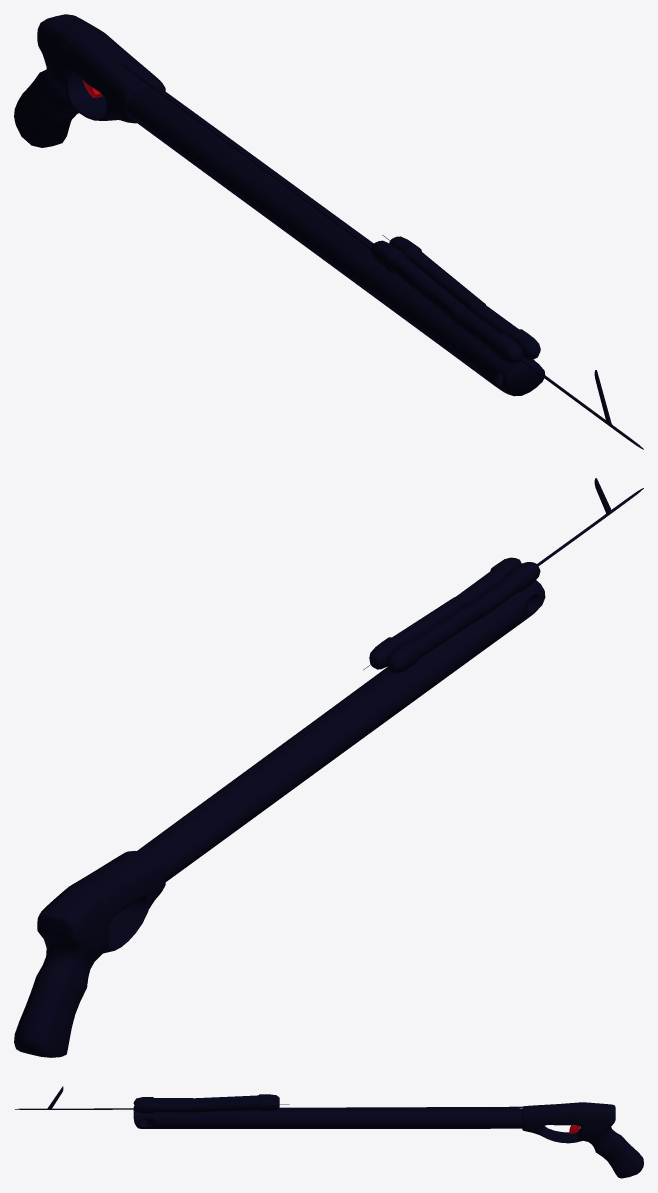
The model's file is Arpon_Rig.fbx.
3 views of the same model, one above another, from view 1: azimuth 30°, elevation 25°; view 2: azimuth 150°, elevation 25°; view 3: azimuth 270°, elevation 25° (orthographic). The views are drawn at different scales.
Parts seen in each view (by area): view 1: Cube.003, Cube.001; view 2: Cube.003, Cube.001; view 3: Cube.003, Cube.001.
Part boxes in pixels (x1,y1,x2,y2): Cube.003: (14, 14, 544, 396); Cube.001: (116, 59, 643, 449); Cube.003: (14, 557, 545, 1057); Cube.001: (116, 478, 643, 868); Cube.003: (133, 1094, 643, 1178); Cube.001: (15, 1086, 551, 1109).
Bounding box in the file's own units: 56.16 × 218 × 1403.
